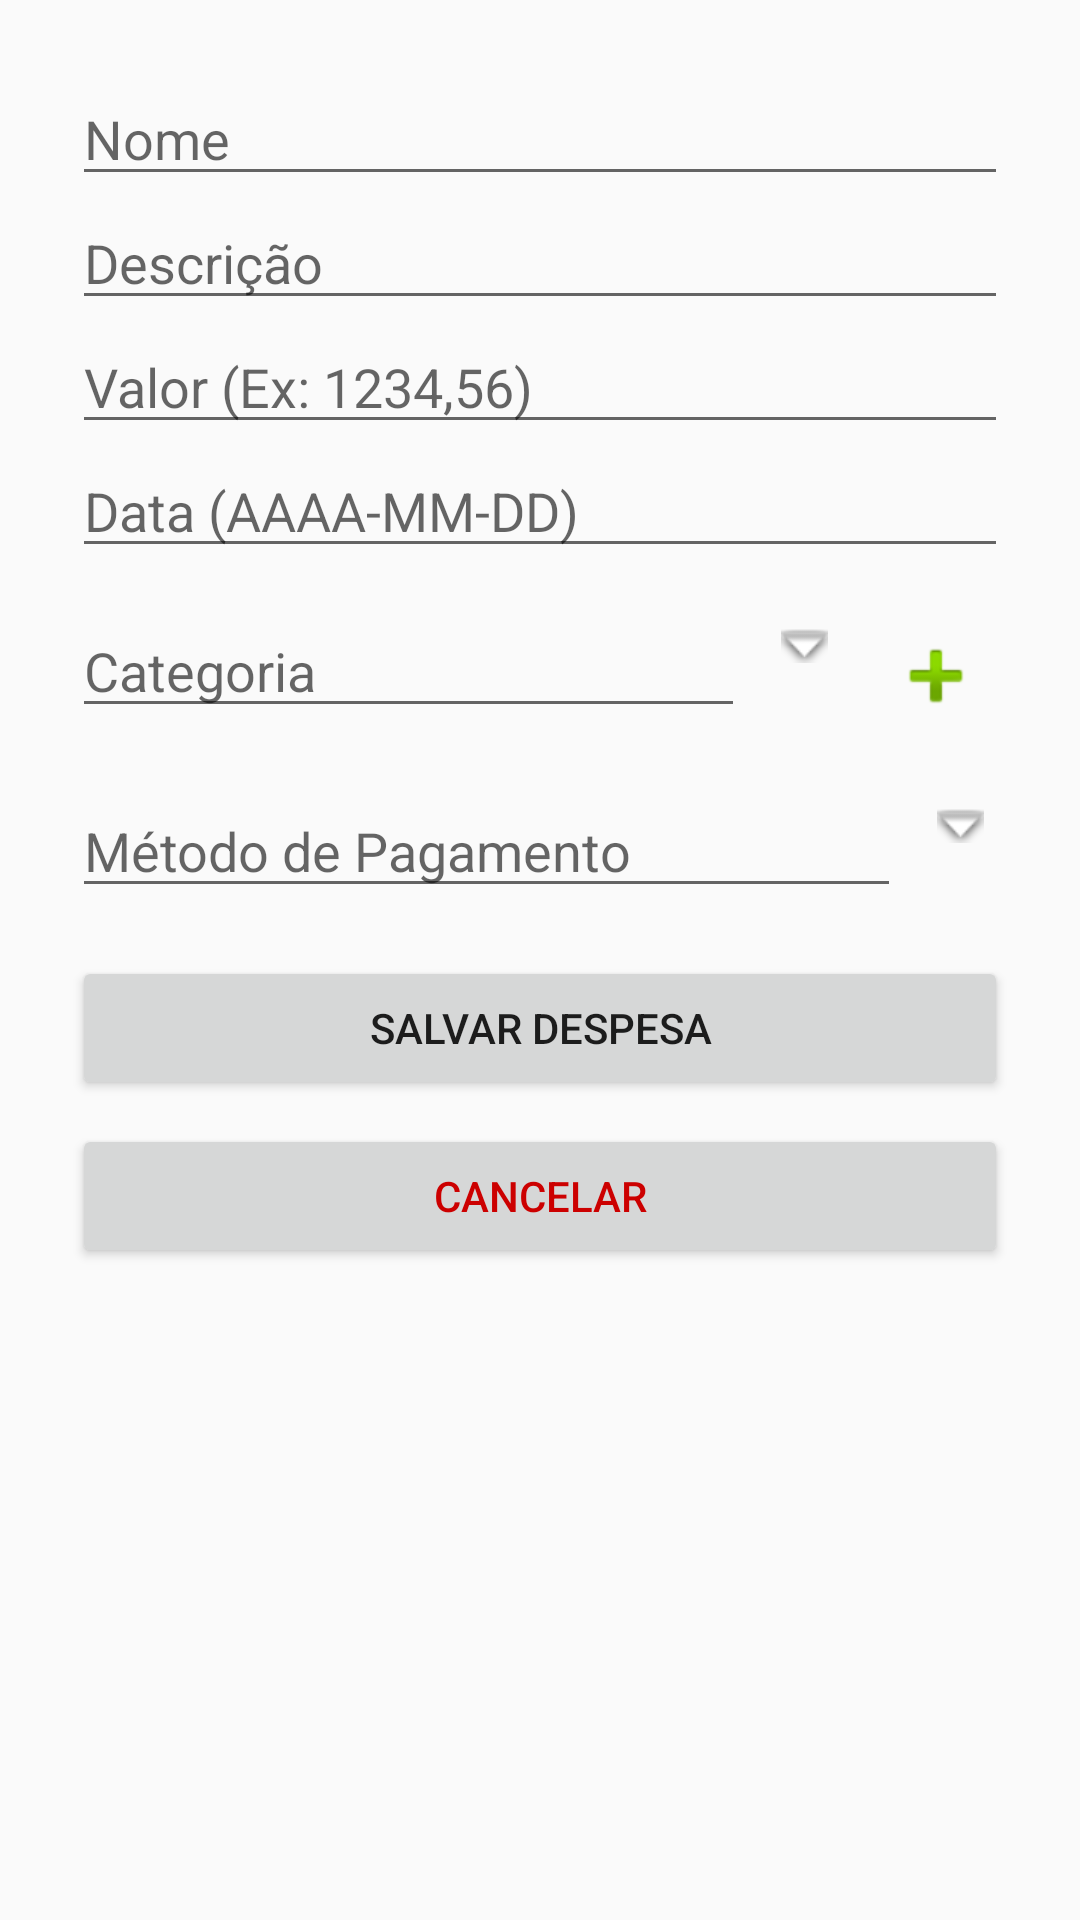

Screen size 1080px×1920px. Icon name, then its box in pixels as {"x1": x1, "y1": y1, "x2": x2, "y2": y2}:
Exibir métodos de pagamento: {"x1": 937, "y1": 810, "x2": 984, "y2": 842}
